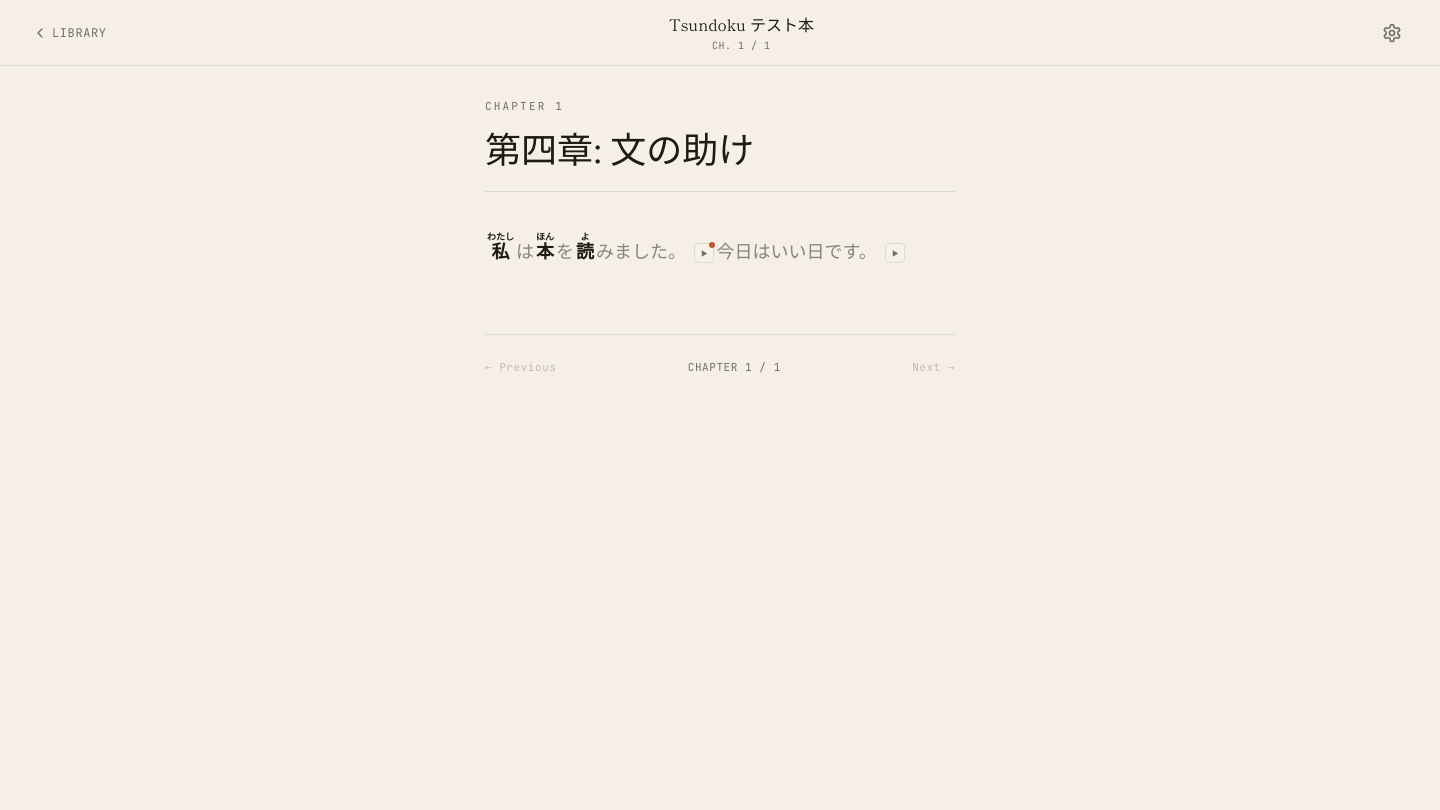
it: Reader › sentence help › shows the sentence translation inline when the sentence-help affordance is activated
This screenshot has width=1440, height=810.
Step 1. Click the button named "translation for p0-s0" → {"x": 704, "y": 253}, box [694,243,714,263]
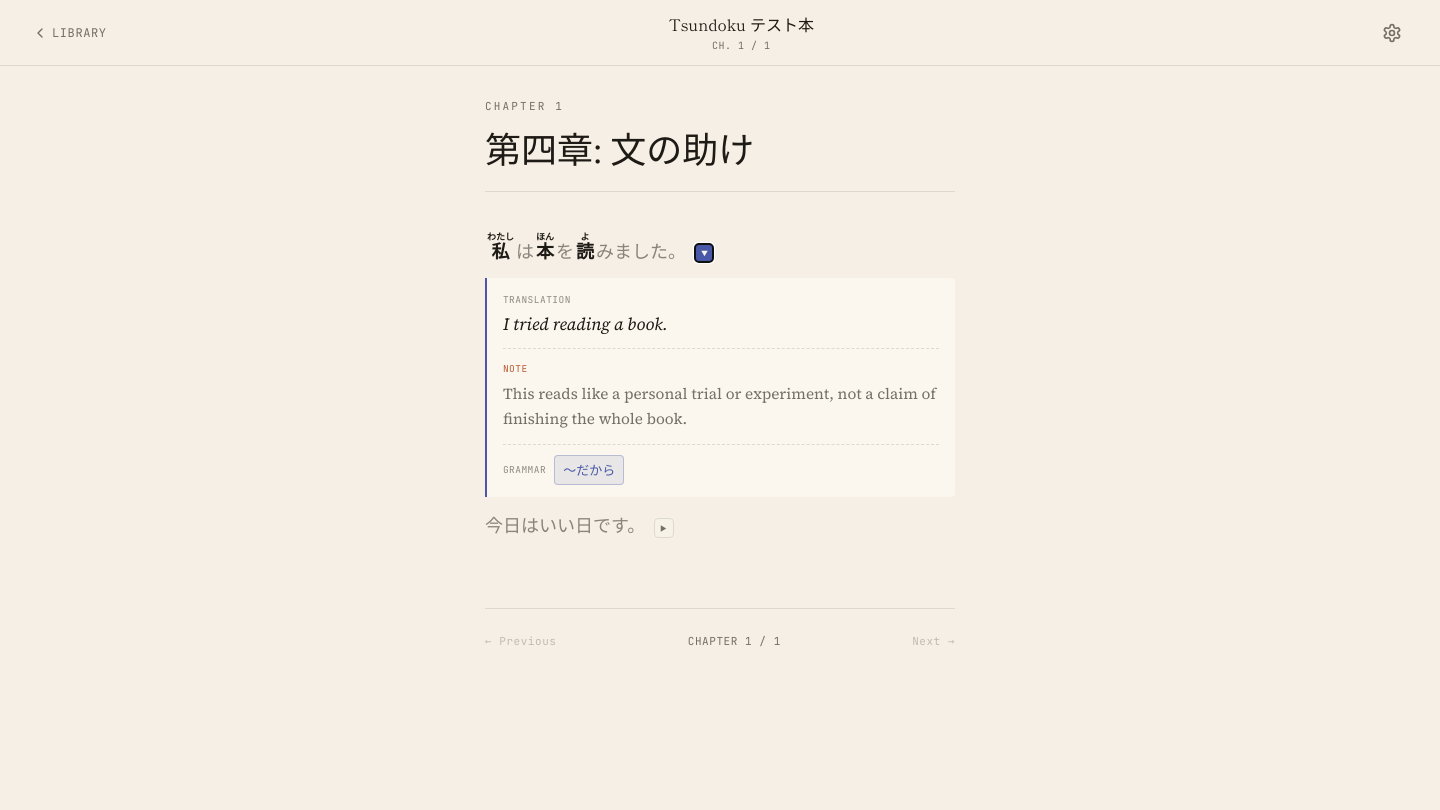
Expected: the text "I tried reading a book." is shown, [503,312,668,336]
